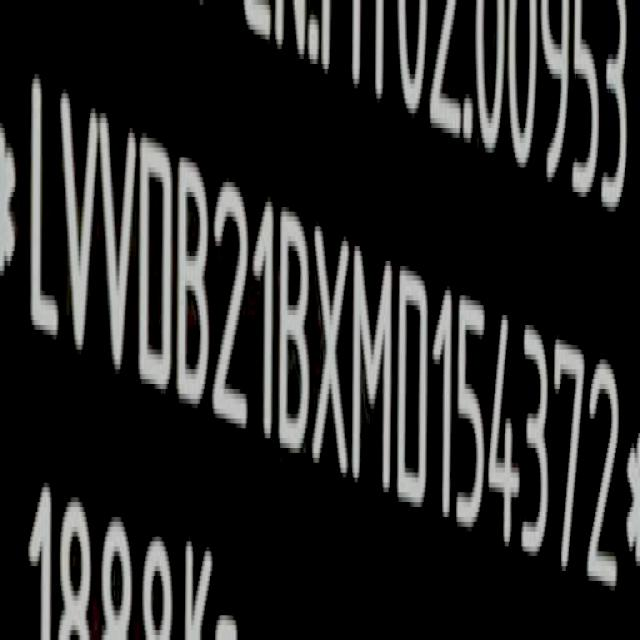1: (433, 282, 452, 521), (257, 201, 275, 447)
2: (214, 186, 249, 433), (589, 354, 624, 594)
3: (521, 320, 550, 567)
4: (488, 311, 520, 555)
5: (457, 290, 487, 537)
7: (555, 333, 586, 579)
B: (180, 160, 213, 412), (278, 206, 310, 452)
D: (137, 131, 173, 392), (396, 264, 430, 512)
L: (31, 80, 64, 352)
M: (354, 245, 394, 494)
V: (58, 85, 98, 368), (99, 105, 137, 380)
X: (312, 227, 349, 476)
